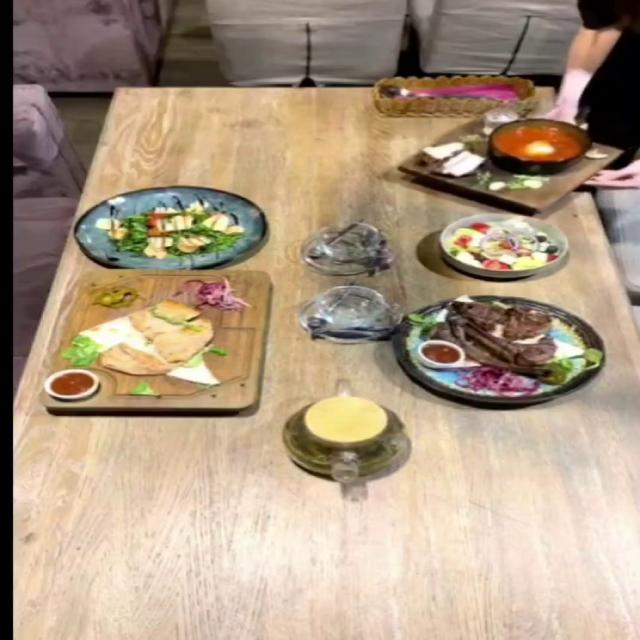meat: (390, 294, 606, 404)
salat: (72, 185, 264, 268), (437, 212, 570, 277)
soup: (392, 111, 621, 215)
tea: (284, 394, 414, 481)
